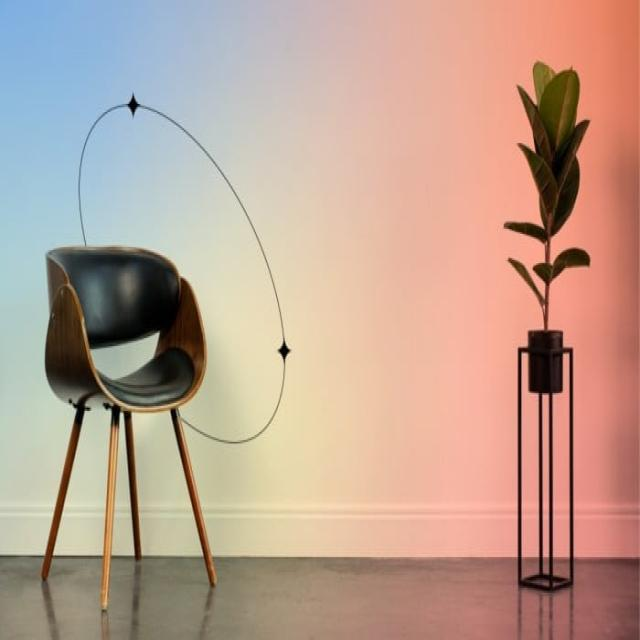chair: (40, 244, 217, 610)
